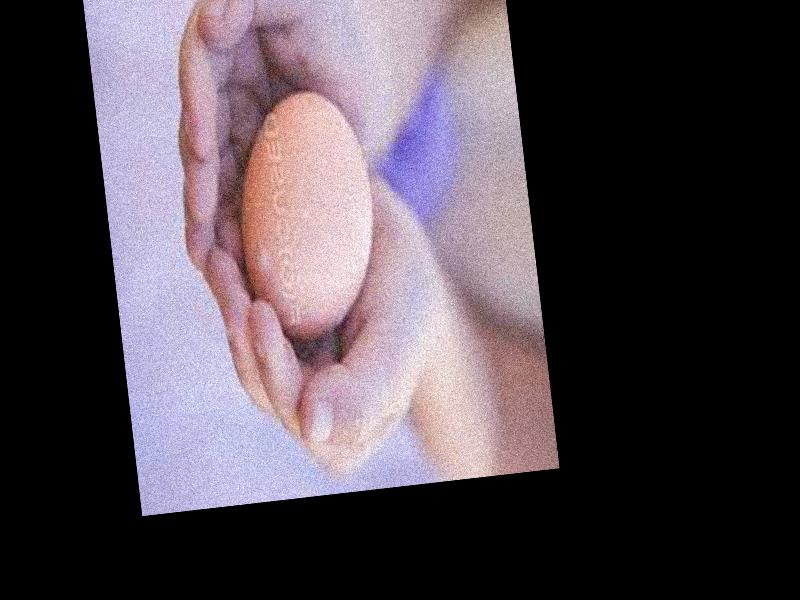Eggs: (225, 81, 387, 342)
